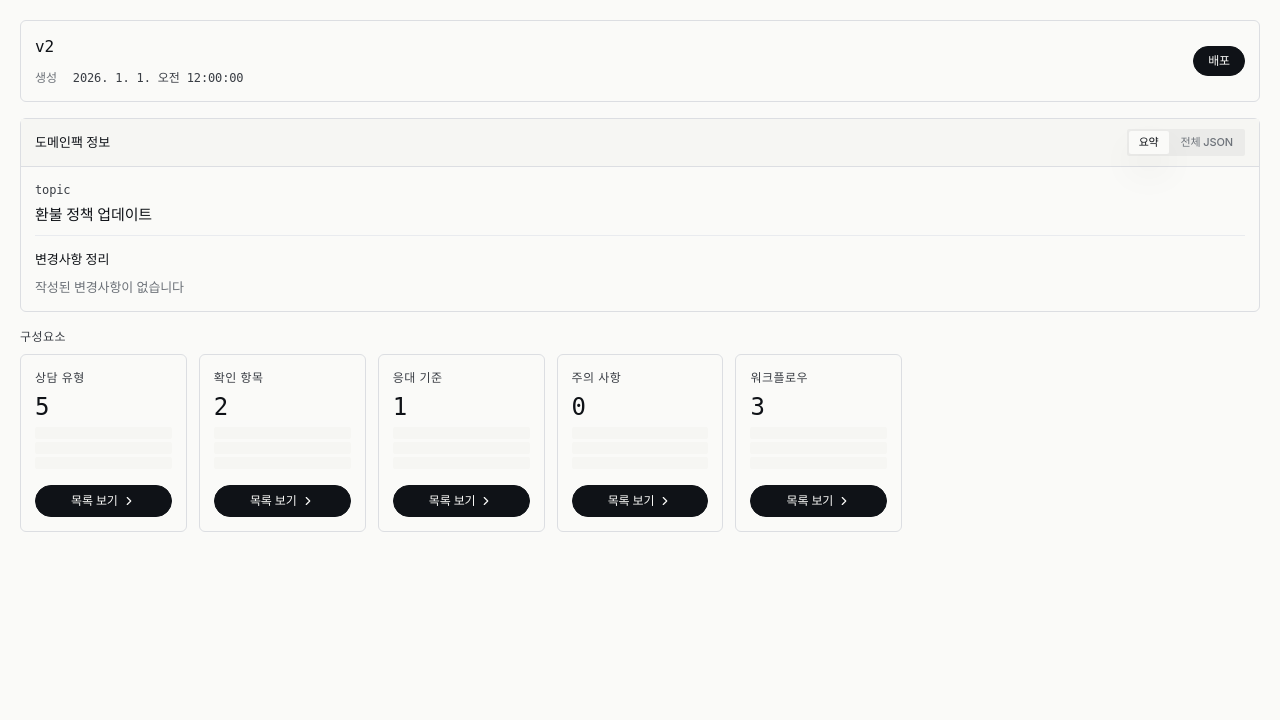
Test: SummaryDetailPanel › 상세 메타 카드의 배포 버튼 클릭 시 확인 다이얼로그를 먼저 표시한다
Click the button "배포" at (1219, 61), box [1193, 46, 1245, 76]
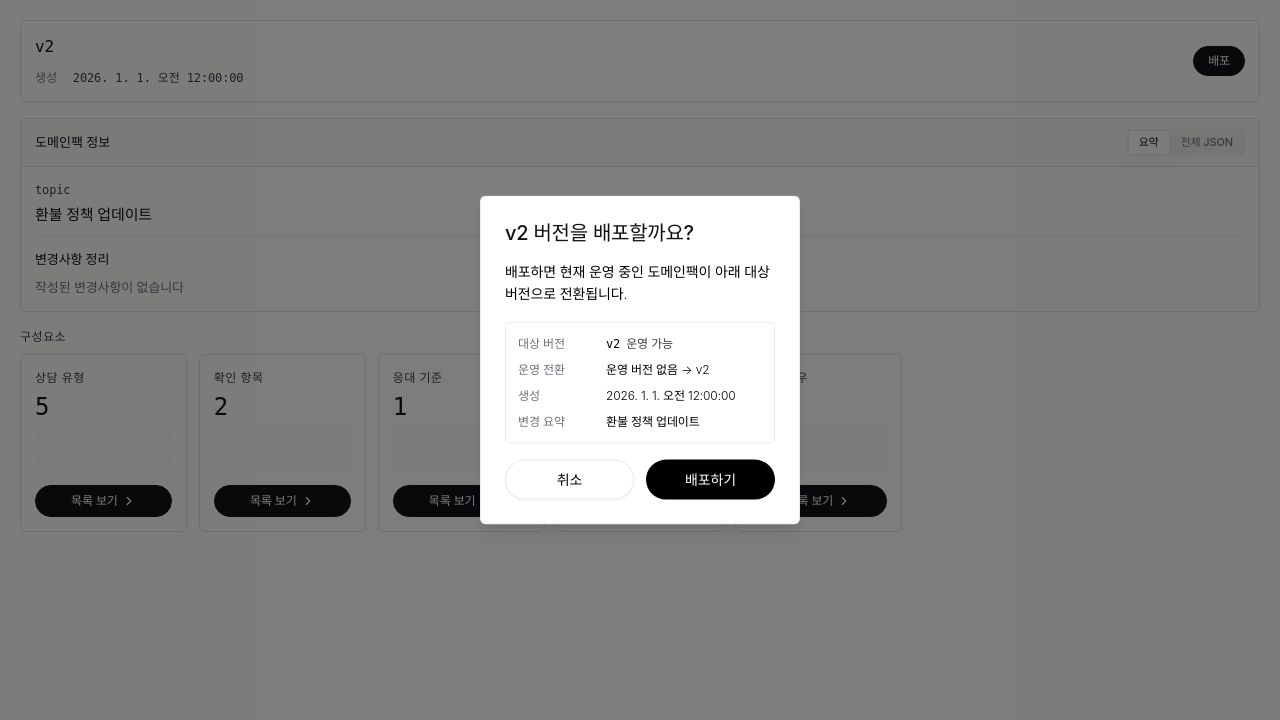
Result: the heading "v2 버전을 배포할까요?" is shown at [505, 221, 694, 245]
